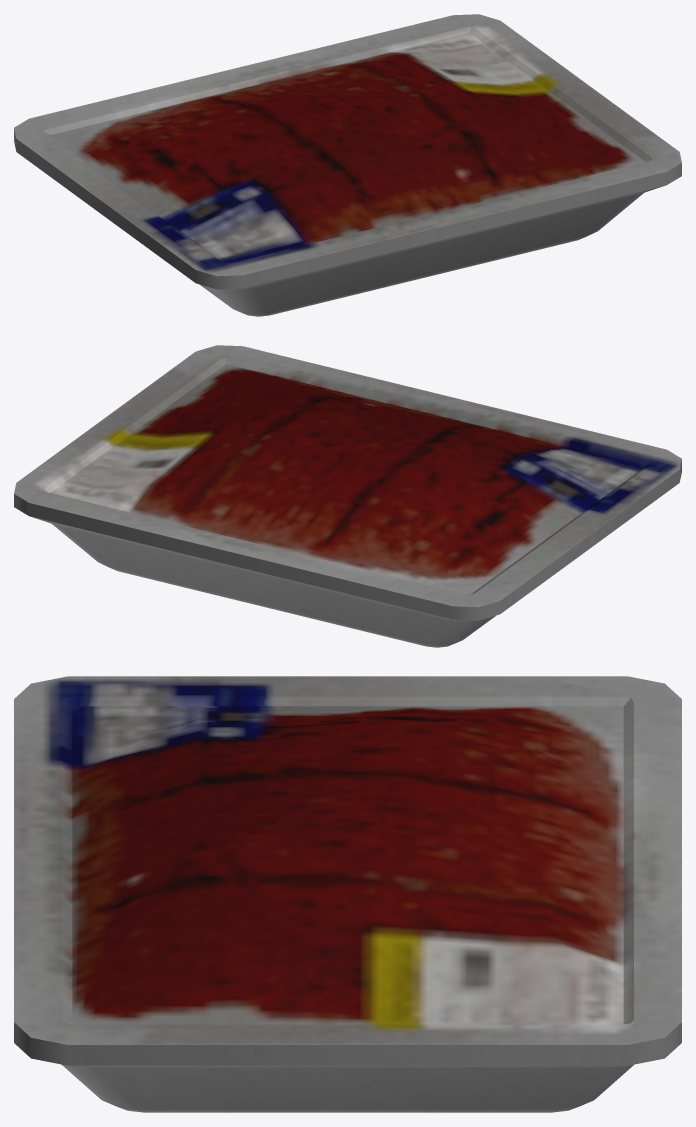
Rendered from meat_1.obj.
3 renders of one model, top to bottom at view 1: azimuth 30°, elevation 25°; view 2: azimuth 150°, elevation 25°; view 3: azimuth 270°, elevation 25°, orthographic. The views are drawn at different scales.
Parts seen in each view (by area): view 1: meat_1; view 2: meat_1; view 3: meat_1.
Boxes of the visible parts, bbox=[...] form: meat_1: bbox=[14, 14, 681, 316]; meat_1: bbox=[14, 345, 681, 647]; meat_1: bbox=[14, 676, 681, 1112].
Bounding box in the file's own units: 0.342 × 0.0752 × 0.2619.
